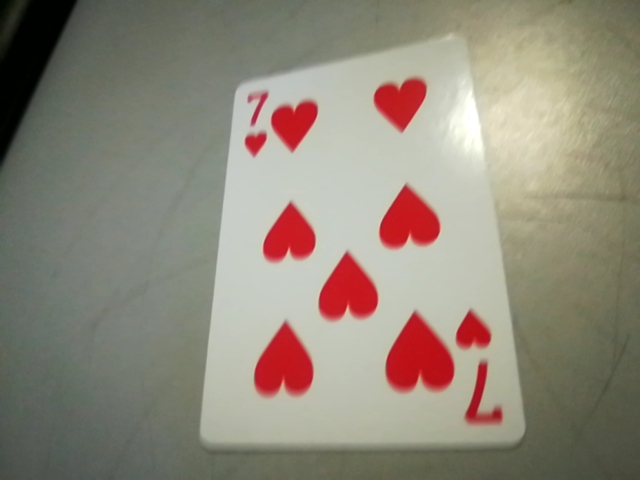hx 7: (449, 301, 515, 435)
